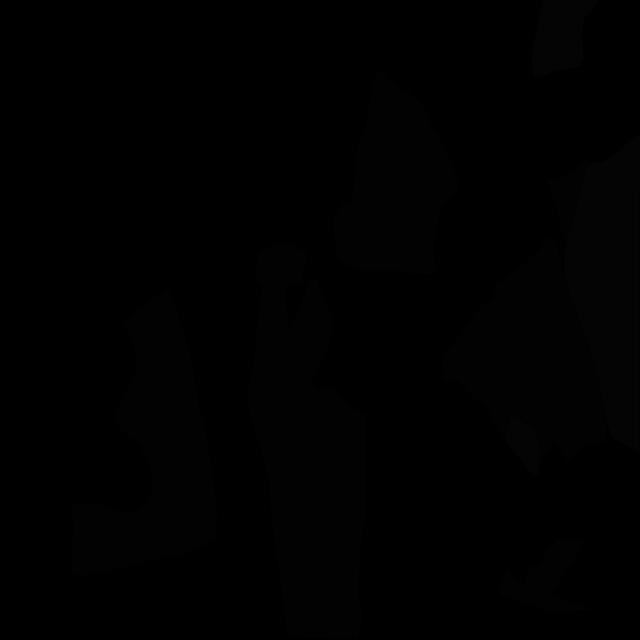cardboard: (246, 243, 366, 639), (71, 287, 217, 576), (442, 237, 606, 462), (332, 69, 459, 275), (500, 538, 592, 612), (547, 154, 596, 243)
soft_plastic: (564, 134, 640, 453), (532, 0, 599, 77), (506, 416, 540, 478)
